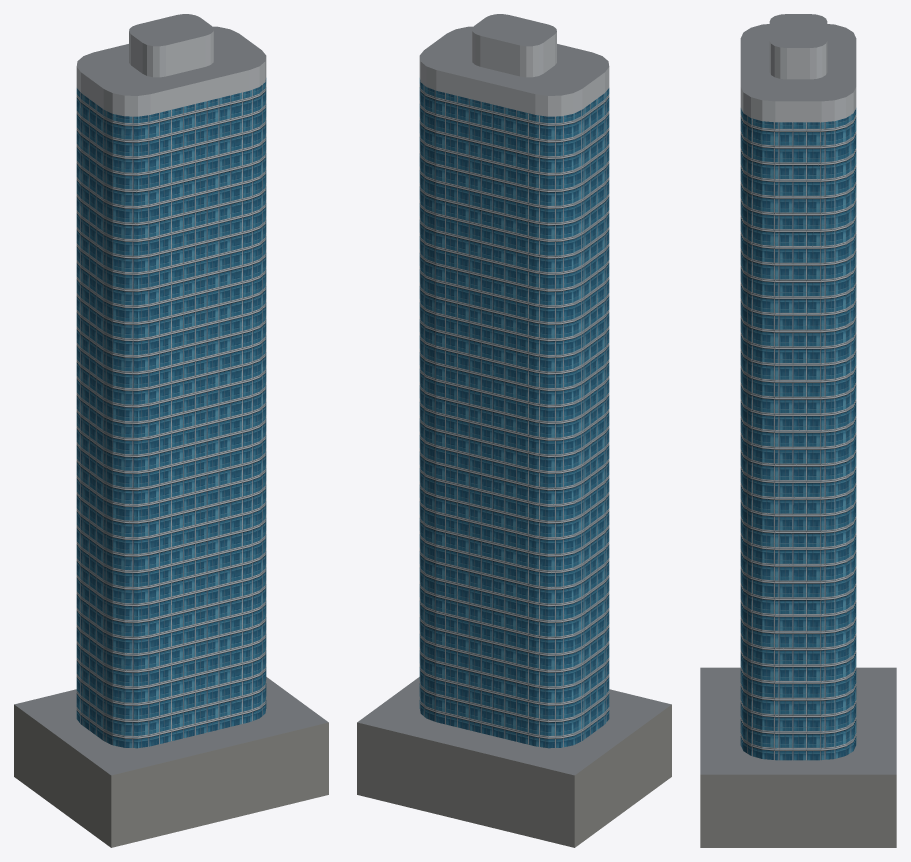
Rendered from gen_mid_glass_condo.glb.
3 renders of one model, left to right at view 1: azimuth 30°, elevation 25°; view 2: azimuth 150°, elevation 25°; view 3: azimuth 270°, elevation 25°, orthographic.
Visible parts, largest first — view 1: gen_mid_glass_condo; view 2: gen_mid_glass_condo; view 3: gen_mid_glass_condo.
Boxes of the visible parts, x1,y1,x2,y2 form: gen_mid_glass_condo: [14, 14, 328, 847]; gen_mid_glass_condo: [357, 14, 671, 847]; gen_mid_glass_condo: [700, 14, 896, 847].
Bounding box in the file's own units: 44 × 146 × 34.
2 materials, 2 textured.
